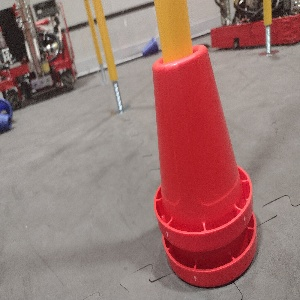Blue_1: (139, 38, 160, 56)
Red_2: (151, 44, 259, 288)
